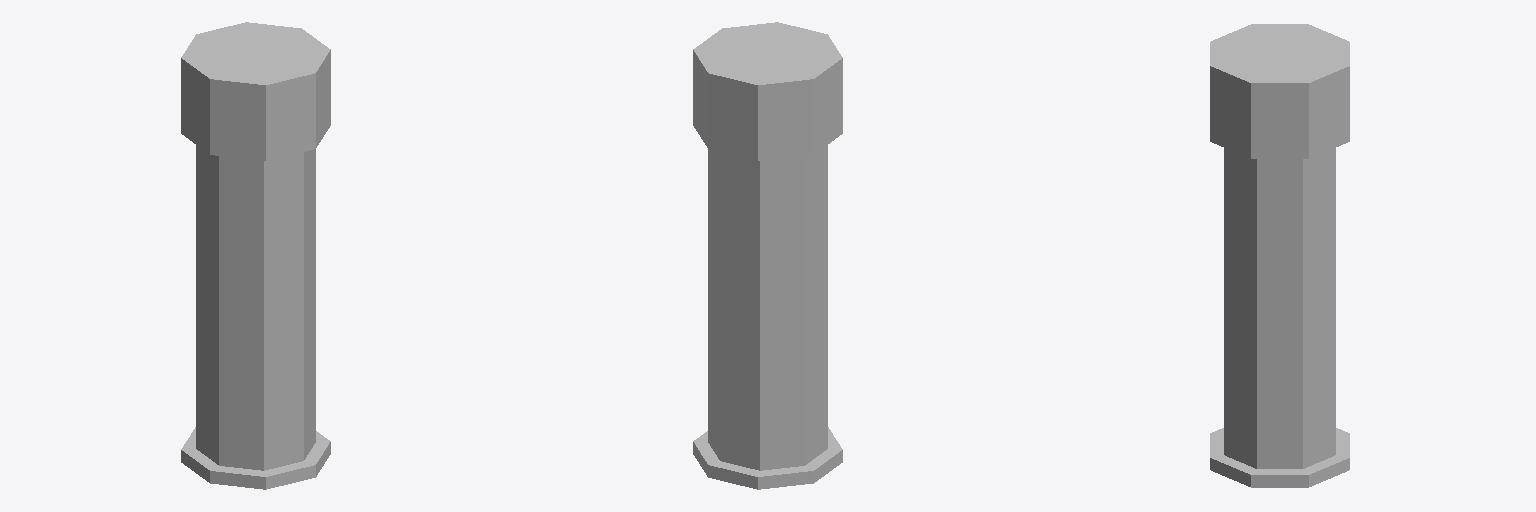
File: pipeworks_fountainhead_lowpoly.obj
3 renders of one model, left to right at view 1: azimuth 30°, elevation 25°; view 2: azimuth 150°, elevation 25°; view 3: azimuth 270°, elevation 25°, orthographic.
Visible parts, largest first — view 1: Cylinder.000; view 2: Cylinder.000; view 3: Cylinder.000.
Part boxes in pixels (x1,y1,x2,y2): Cylinder.000: (181,22,330,489); Cylinder.000: (693,22,842,489); Cylinder.000: (1210,24,1349,487).
Size of the model in its own units: 0.3125 by 1 by 0.3125.